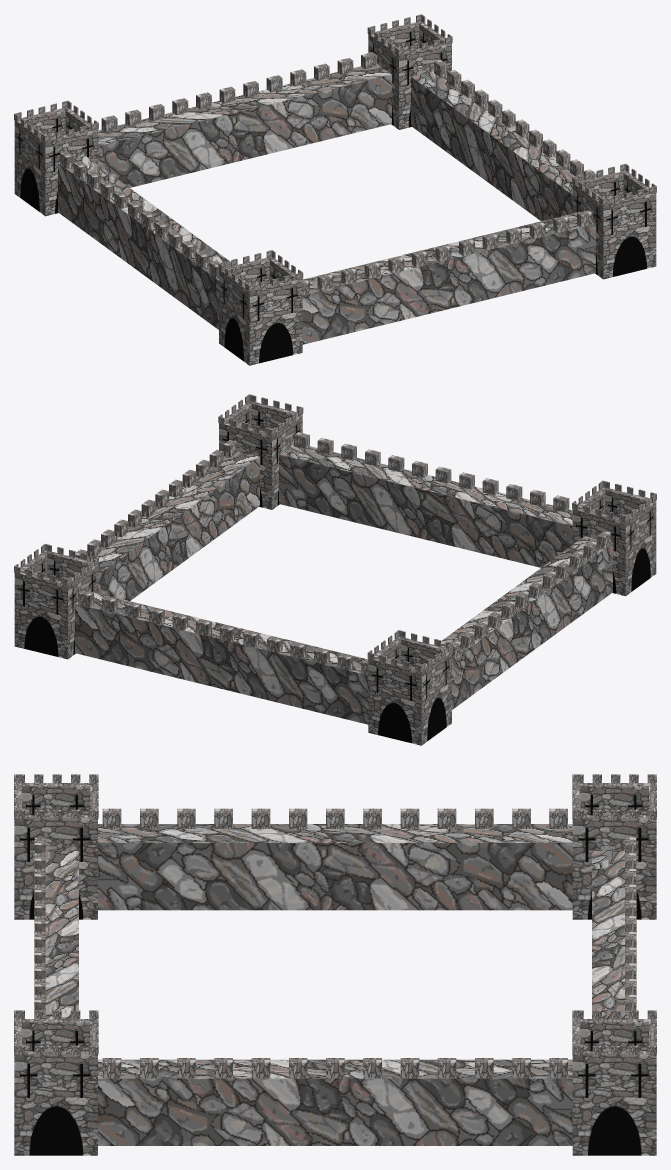
Rendered from city.fbx.
3 views of the same model, one above another, from view 1: azimuth 30°, elevation 25°; view 2: azimuth 150°, elevation 25°; view 3: azimuth 270°, elevation 25° (orthographic). The views are drawn at different scales.
Parts seen in each view (by area): view 1: City; view 2: City; view 3: City.
Boxes of the visible parts, x1,y1,x2,y2 form: City: [14, 14, 656, 365]; City: [14, 394, 656, 745]; City: [14, 774, 656, 1155].
Bounding box in the file's own units: 6920 × 1300 × 6909.
